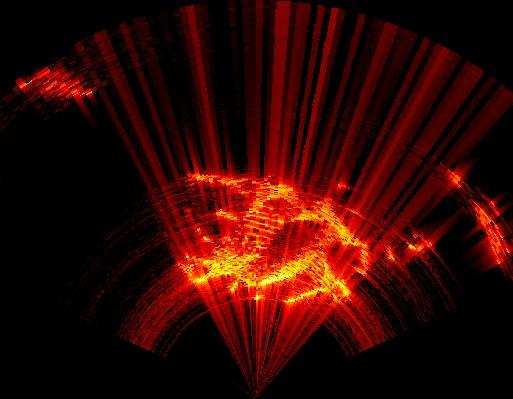shipwreck: (182, 180, 369, 303), (473, 200, 509, 265), (193, 175, 250, 186), (406, 239, 431, 252), (450, 171, 462, 187), (385, 246, 395, 261)
